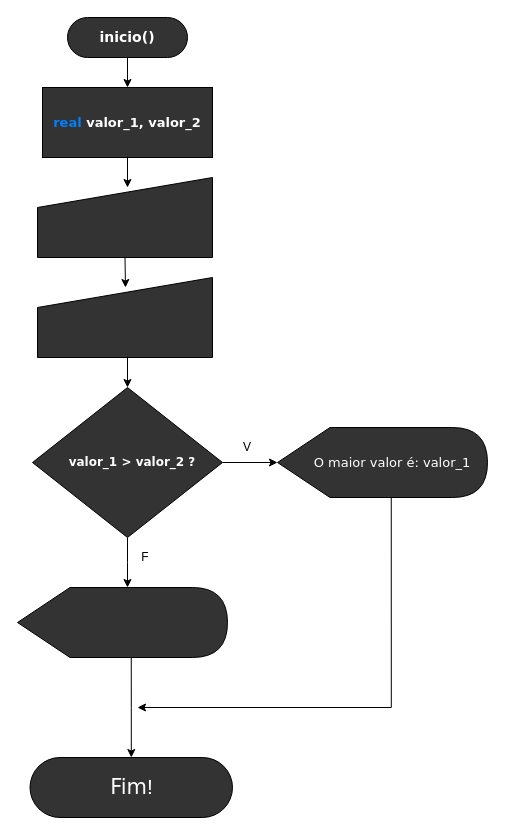
The diagram is 510 pixels wide and 835 high, and some of its shapes have lost their labels. Here are the shapes that lost their labels. From the top down, the centre of each, then its label:
(x=124, y=217): valor_1
(x=124, y=317): valor_2
(x=122, y=622): O maior valor é: valor_2
